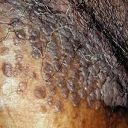Wart: (24, 16, 126, 102)
